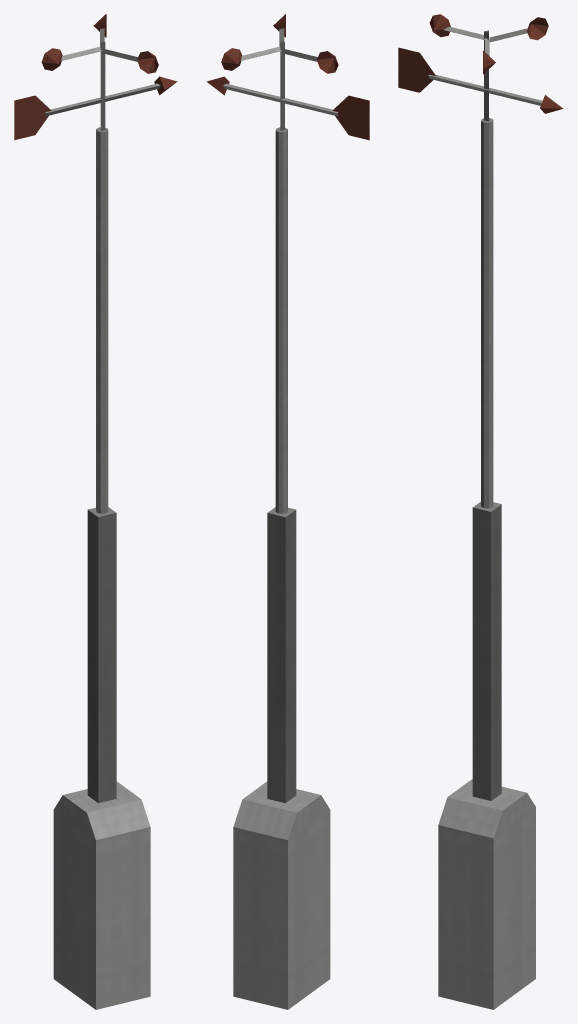
The model's file is weather-station-anemometer-cbj_LOD00.gltf.
3 views of the same model, side by side, from view 1: azimuth 30°, elevation 25°; view 2: azimuth 150°, elevation 25°; view 3: azimuth 330°, elevation 25° (orthographic).
Parts seen in each view (by area): view 1: Cube; view 2: Cube; view 3: Cube.
Boxes of the visible parts, bbox=[...] form: Cube: bbox=[14, 14, 177, 1009]; Cube: bbox=[206, 14, 369, 1009]; Cube: bbox=[398, 14, 563, 1009].
Size of the model in its own units: 1.79 by 9.97 by 1.12.
